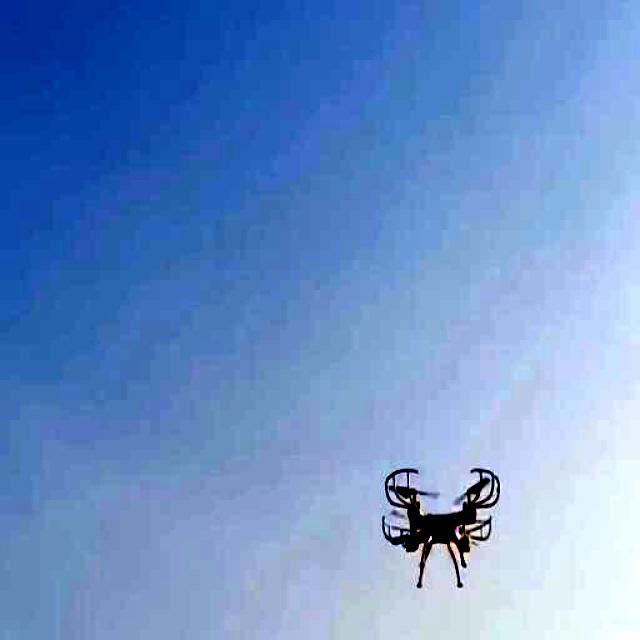bird: (372, 442, 500, 592)
